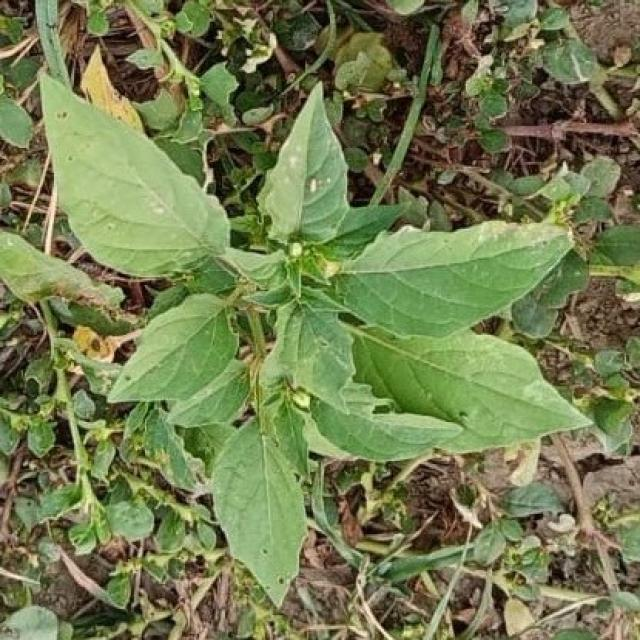weed: (40, 75, 592, 603)
